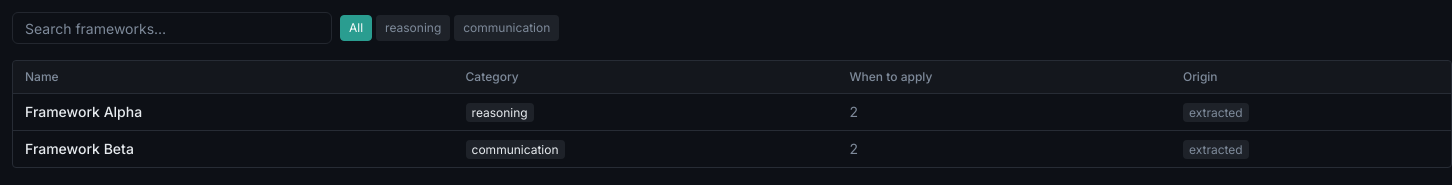
FrameworkLibraryTab — KIN-319 › browse and loading › category filter shows only frameworks with the selected category
Expected: the text "Framework Alpha" is shown, [25,103,142,120]
Click the button "reasoning".
click(413, 28)  # box [376,15,450,41]
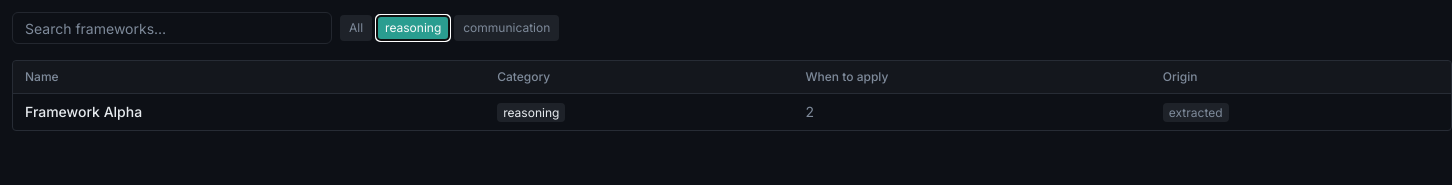
Expected: the text "Framework Alpha" is shown, [25,103,142,120]
Expected: the text "Framework Beta" is gone
